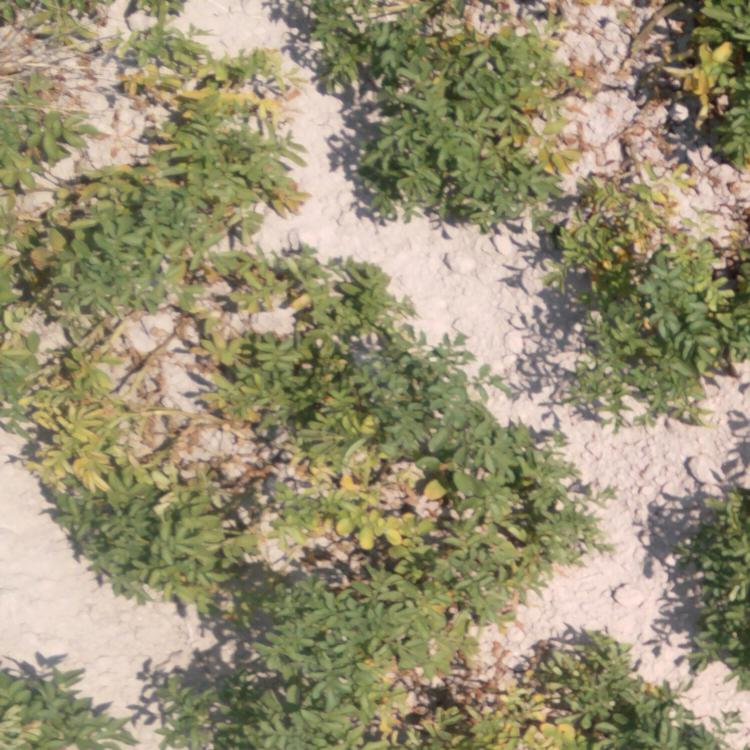healthy: (124, 1, 286, 206), (432, 396, 582, 597), (162, 583, 340, 750), (2, 642, 113, 750), (679, 478, 743, 644), (578, 669, 703, 750)
stressed: (306, 1, 553, 228), (194, 314, 415, 560), (568, 178, 744, 425), (1, 313, 162, 558), (1, 1, 115, 306), (347, 604, 574, 750), (122, 202, 279, 307), (661, 1, 746, 166)
